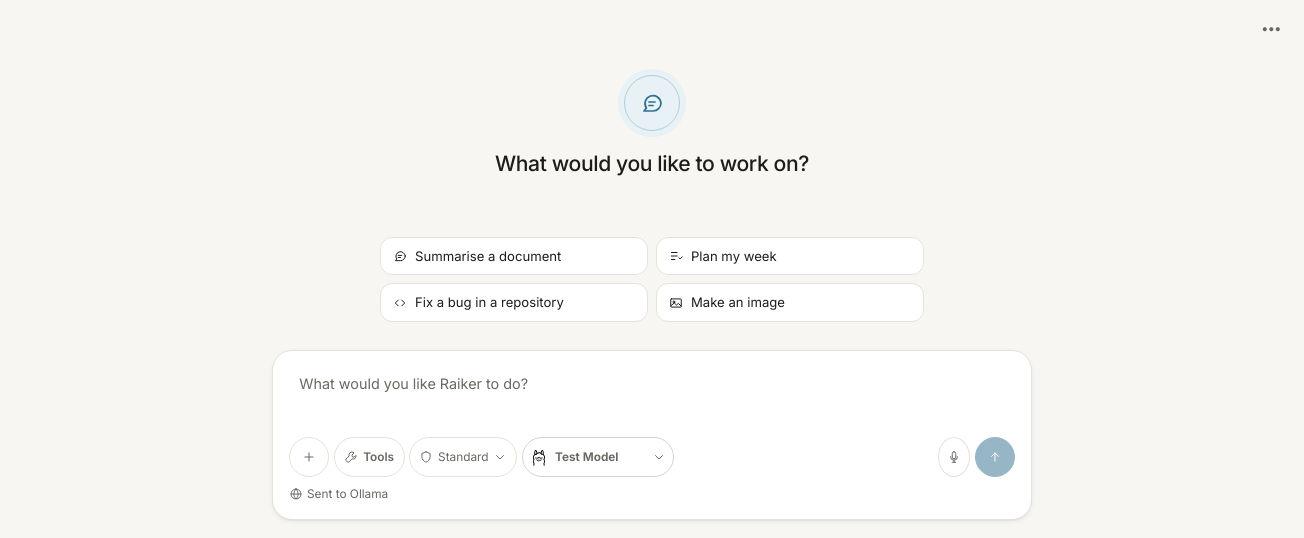
ChatView composer parity › offers manual read aloud only after an answer is complete
Type "Answer" into the text box named "Prompt" at [652, 396], box [289, 367, 1015, 425]
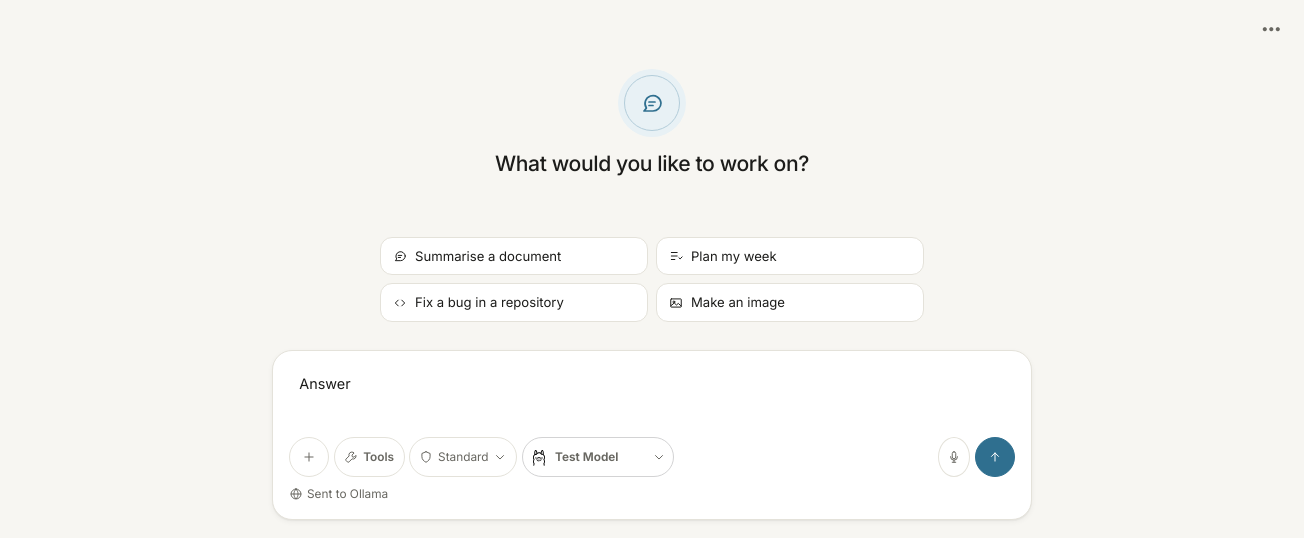
Click the button named "Send" at [995, 457], box [975, 437, 1015, 477]
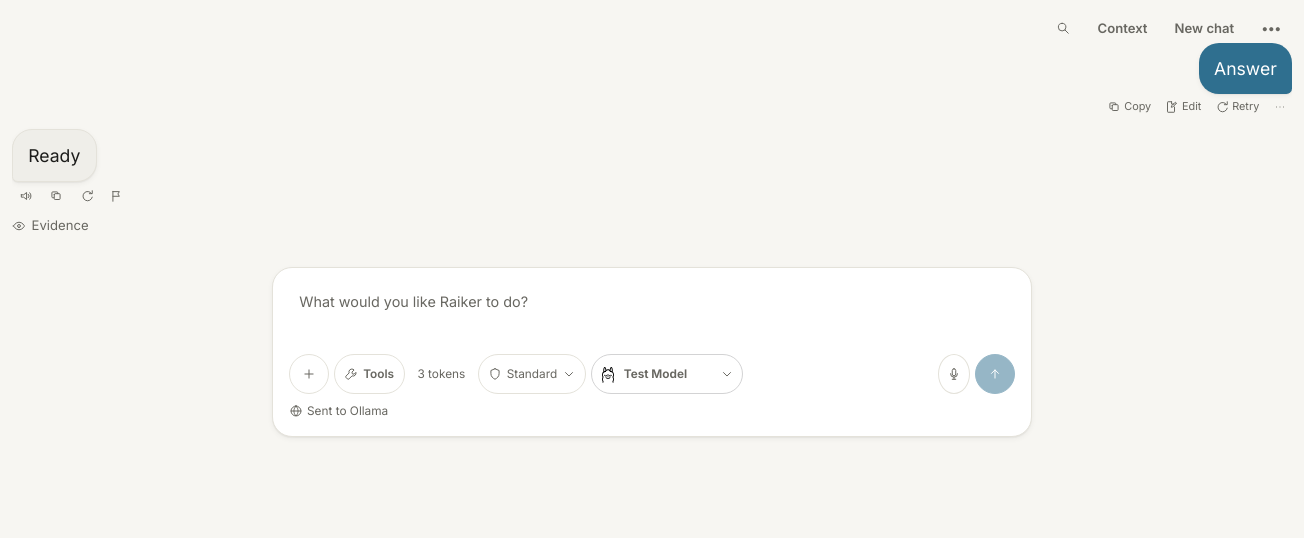
Result: the button named "Read aloud" is shown at [12, 182, 40, 210]
Result: the button named "Copy response" is shown at [42, 182, 70, 210]
